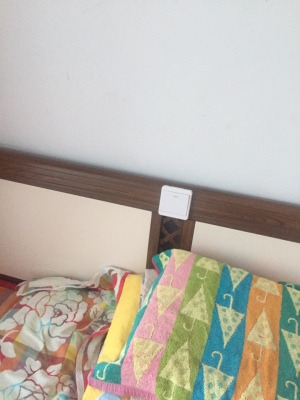switch: (160, 185, 190, 218)
